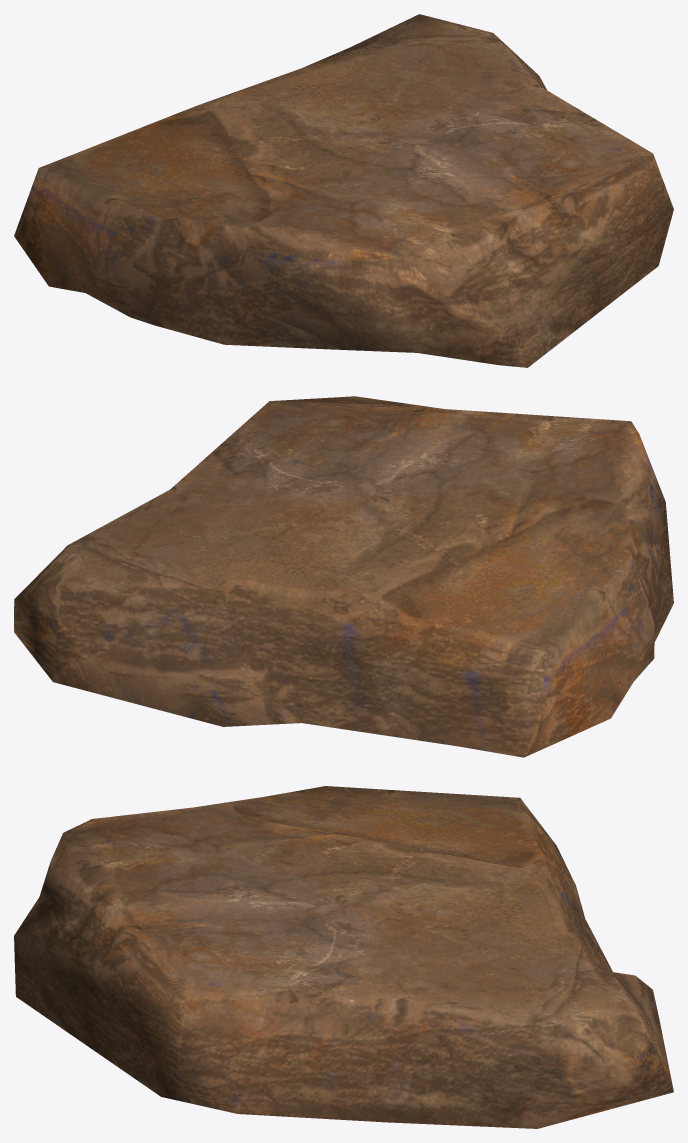
File: Rock_Shales_01_L1.fbx
The picture shows the model from 3 angles, top to bottom: view 1: azimuth 30°, elevation 25°; view 2: azimuth 150°, elevation 25°; view 3: azimuth 270°, elevation 25°; orthographic projection. The views are drawn at different scales.
Visible parts, largest first — view 1: polySurface243; view 2: polySurface243; view 3: polySurface243.
Part boxes in pixels (<box>): polySurface243: <box>14,14,673,367</box>; polySurface243: <box>14,396,673,757</box>; polySurface243: <box>14,786,673,1128</box>.
Bounding box in the file's own units: 99.85 × 23.04 × 106.
